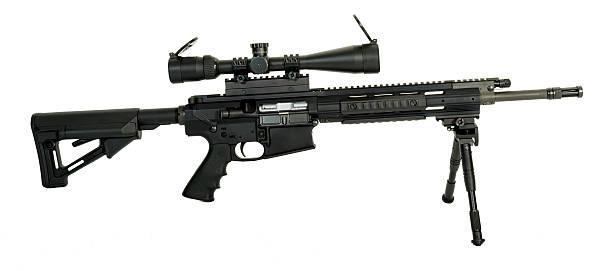larga: (30, 13, 584, 246)
